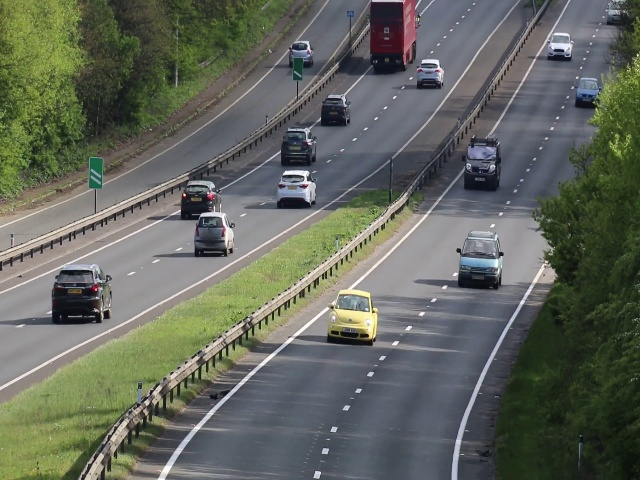car: (52, 265, 114, 325), (372, 1, 417, 71), (457, 232, 503, 287), (329, 291, 379, 338), (463, 141, 502, 189), (195, 210, 234, 254), (280, 126, 317, 164), (277, 169, 315, 204), (182, 180, 221, 212), (320, 92, 350, 127), (416, 59, 445, 90), (575, 74, 600, 108), (549, 31, 572, 62), (288, 41, 311, 57)
